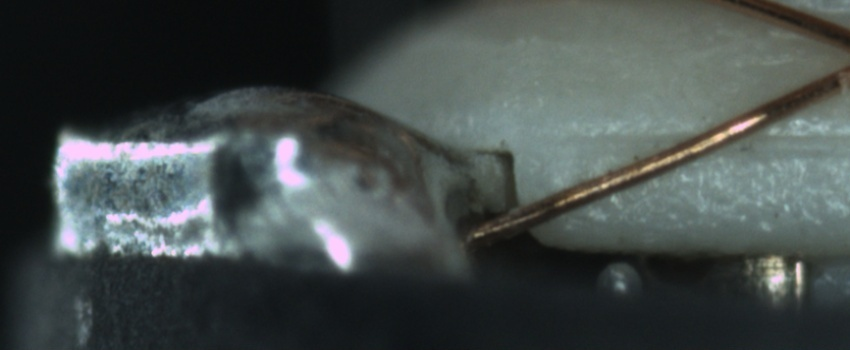DL: (557, 110, 849, 172)
